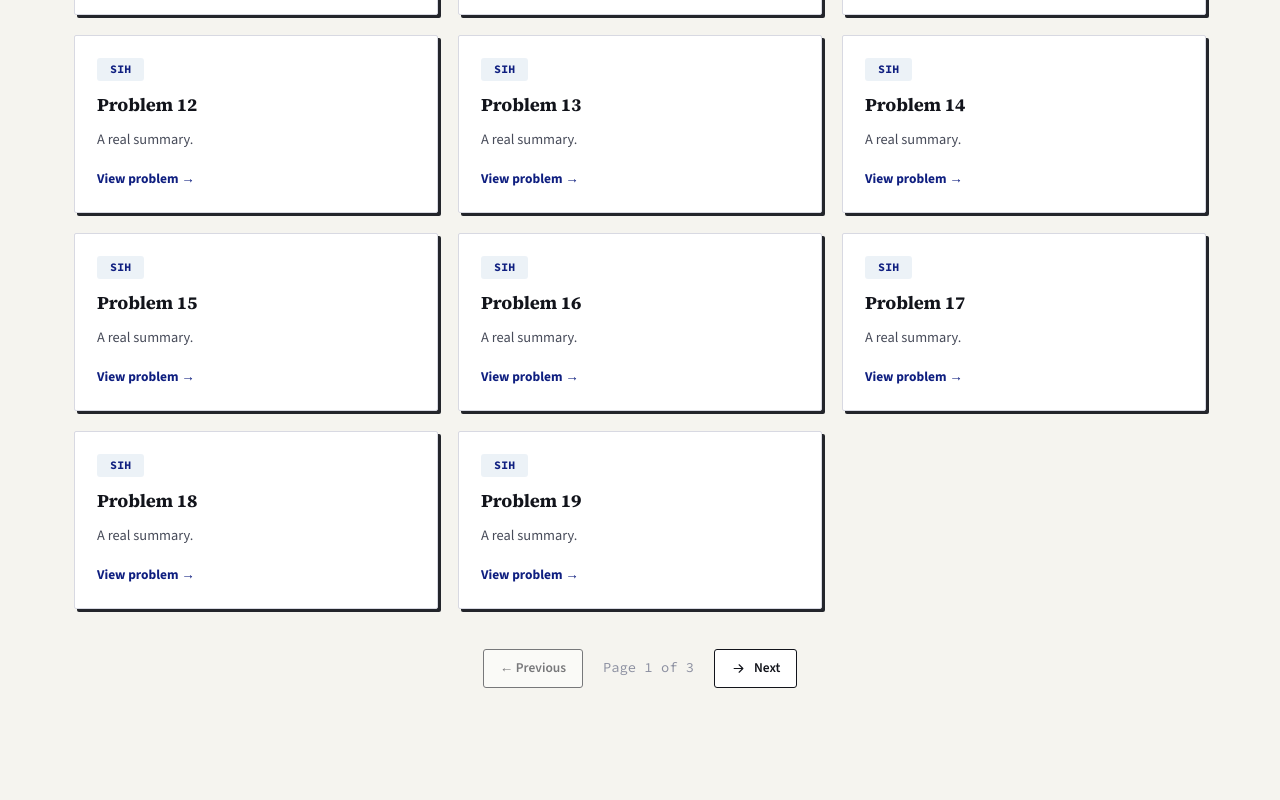
Scenario: AllProblems › clicking Next advances the page and refetches
(page scrolled)
Click the button "Next".
click(756, 668)  # box x1=714 y1=649 x2=797 y2=688
(page scrolled)
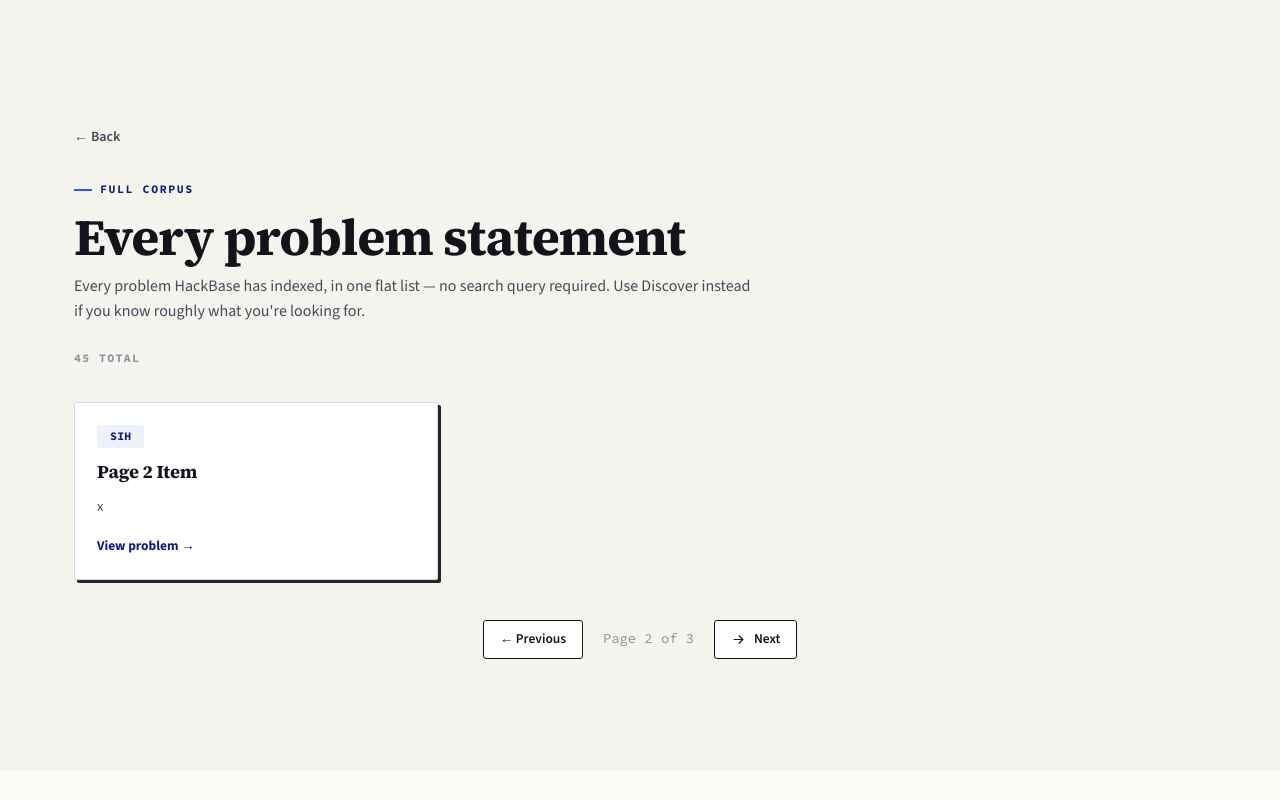
Result: the heading "Page 2 Item" is shown at x1=97 y1=459 x2=197 y2=484
